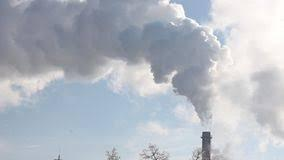smoke: (0, 0, 230, 133)
